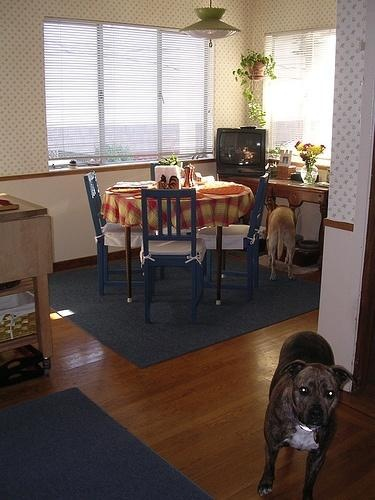chair: (138, 187, 209, 327), (198, 175, 270, 302), (85, 171, 157, 296), (149, 161, 195, 178)
diningtable: (101, 177, 253, 307)
dog: (258, 328, 357, 500), (266, 205, 299, 283)
pottedplant: (234, 48, 280, 128)
tvmonitor: (213, 128, 269, 178)
